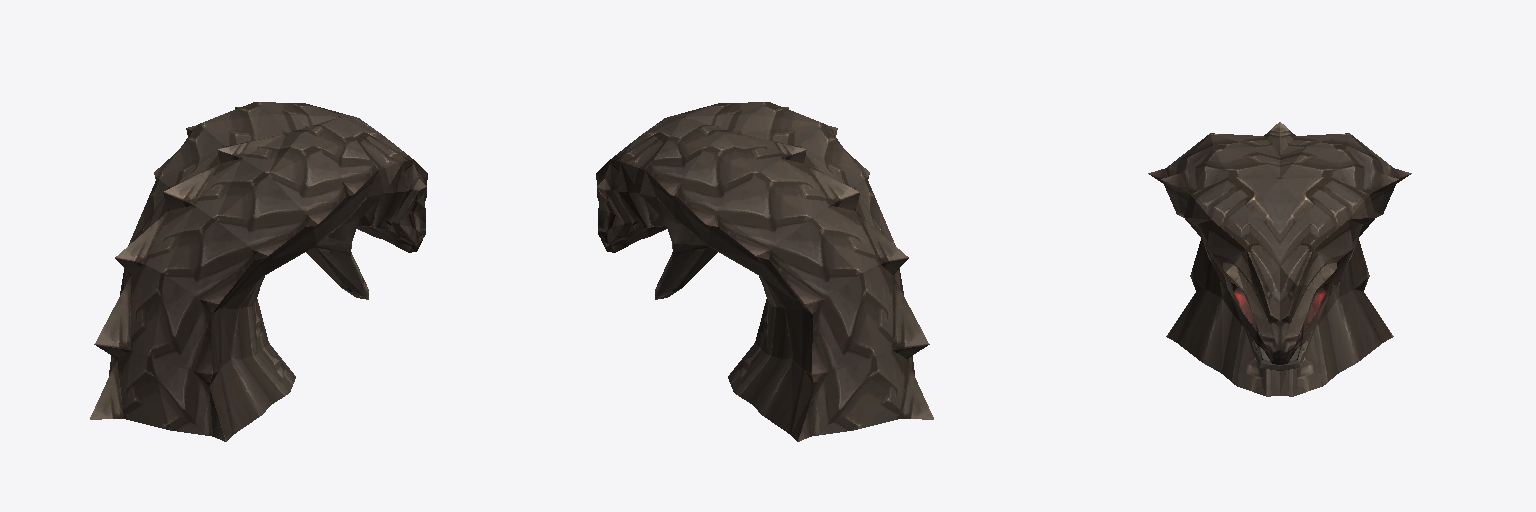
3 renders of one model, left to right at view 1: azimuth 30°, elevation 25°; view 2: azimuth 150°, elevation 25°; view 3: azimuth 270°, elevation 25°, orthographic.
Parts seen in each view (by area): view 1: world/expansion02/doodads/zuldrak/statues/zuldrak_statue_snake_0; view 2: world/expansion02/doodads/zuldrak/statues/zuldrak_statue_snake_0; view 3: world/expansion02/doodads/zuldrak/statues/zuldrak_statue_snake_0.
Boxes of the visible parts, x1=… form: world/expansion02/doodads/zuldrak/statues/zuldrak_statue_snake_0: x1=90, y1=102, x2=427, y2=441; world/expansion02/doodads/zuldrak/statues/zuldrak_statue_snake_0: x1=596, y1=102, x2=933, y2=441; world/expansion02/doodads/zuldrak/statues/zuldrak_statue_snake_0: x1=1148, y1=122, x2=1411, y2=396.
Bounding box in the file's own units: 11.78 × 8.4 × 8.09.
Materials: 1 (1 with a texture image).